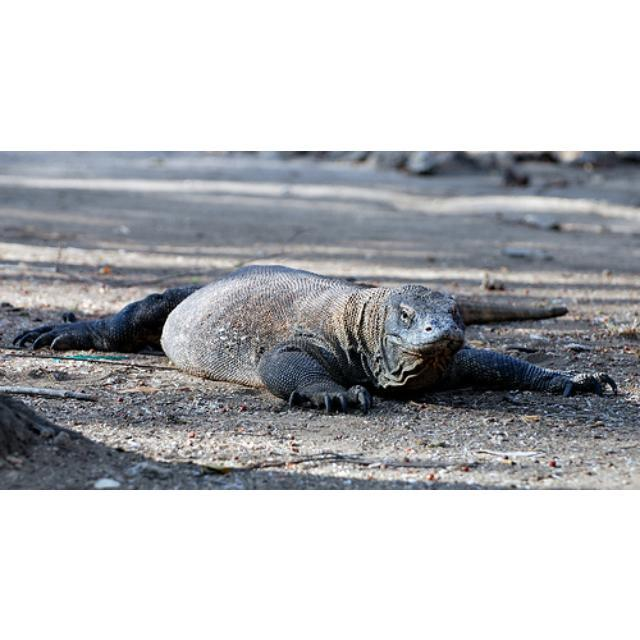KomodoDragon: (15, 262, 620, 414)
